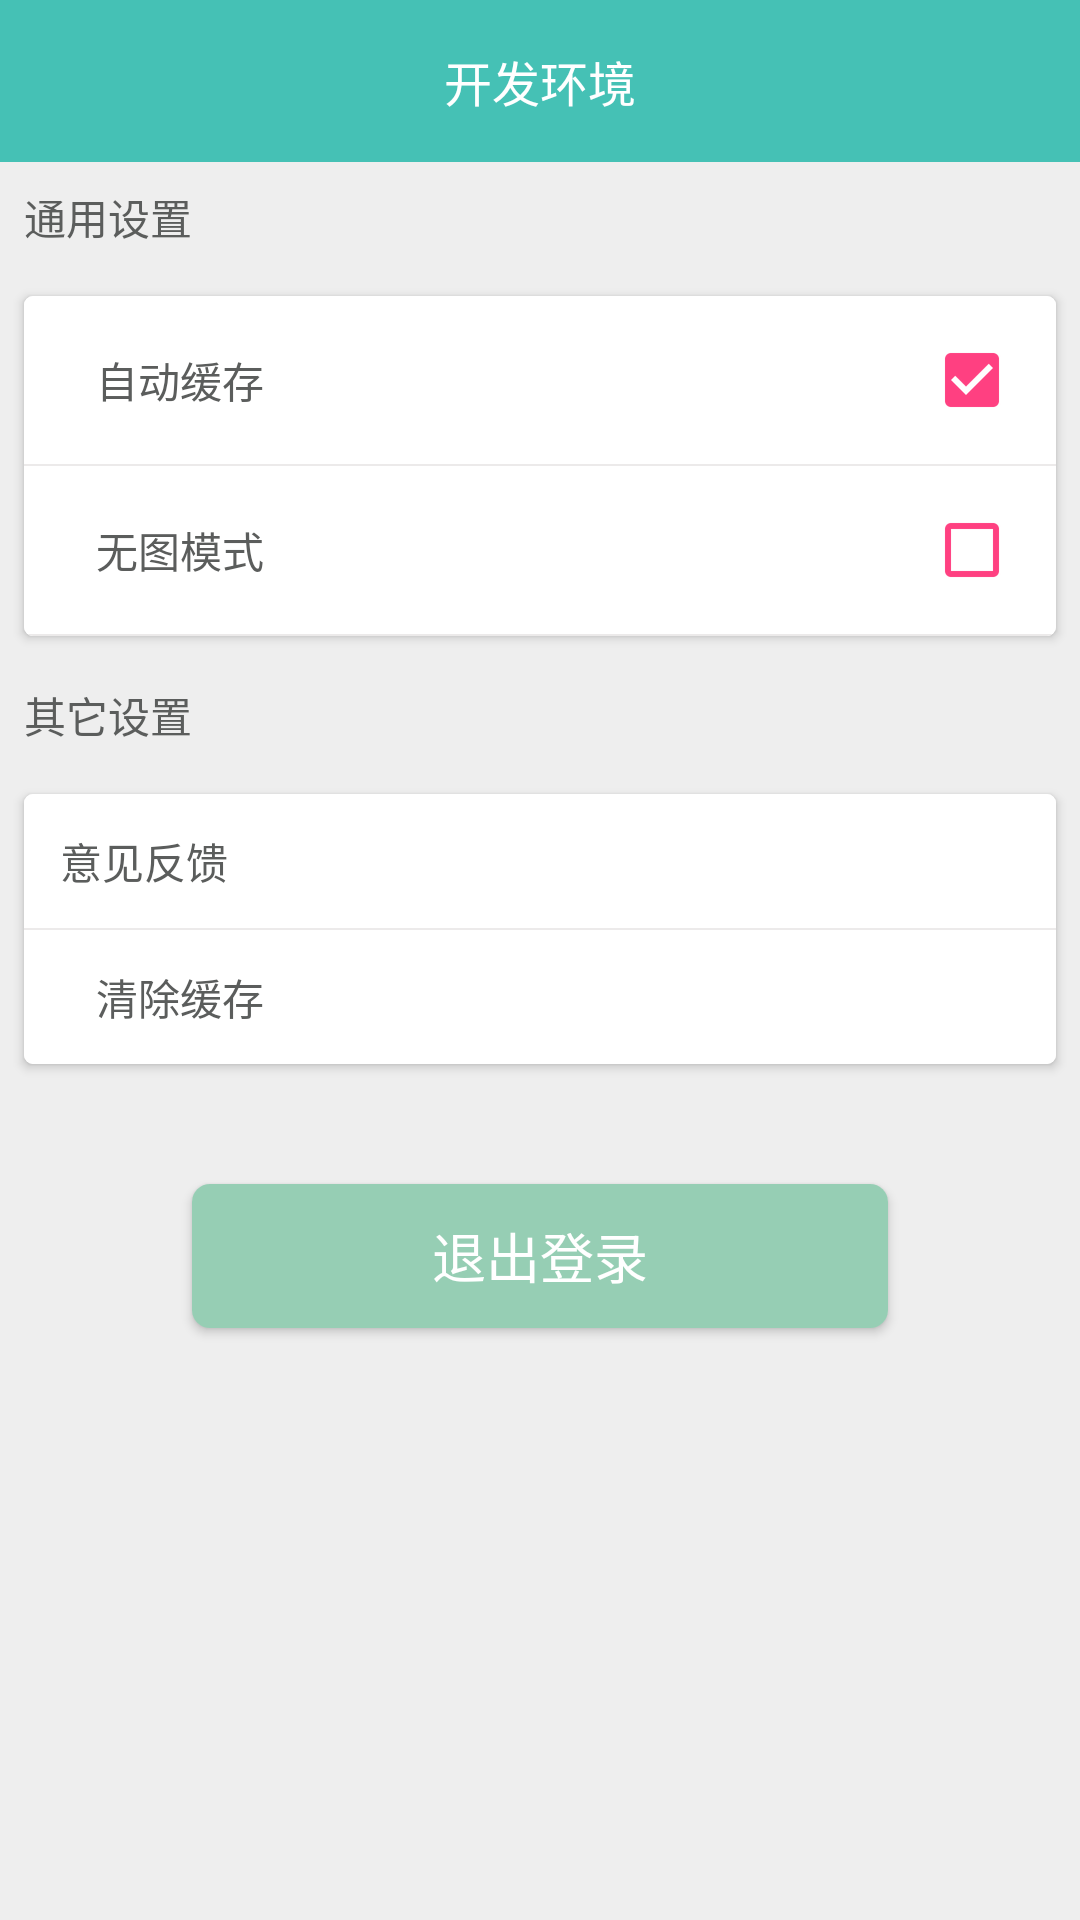

Named icons in this screenshot (1080 x 1920) and their bounding boxes, (x1, y1, x2, y2):
check: (945, 353, 999, 407), (945, 523, 999, 577)
